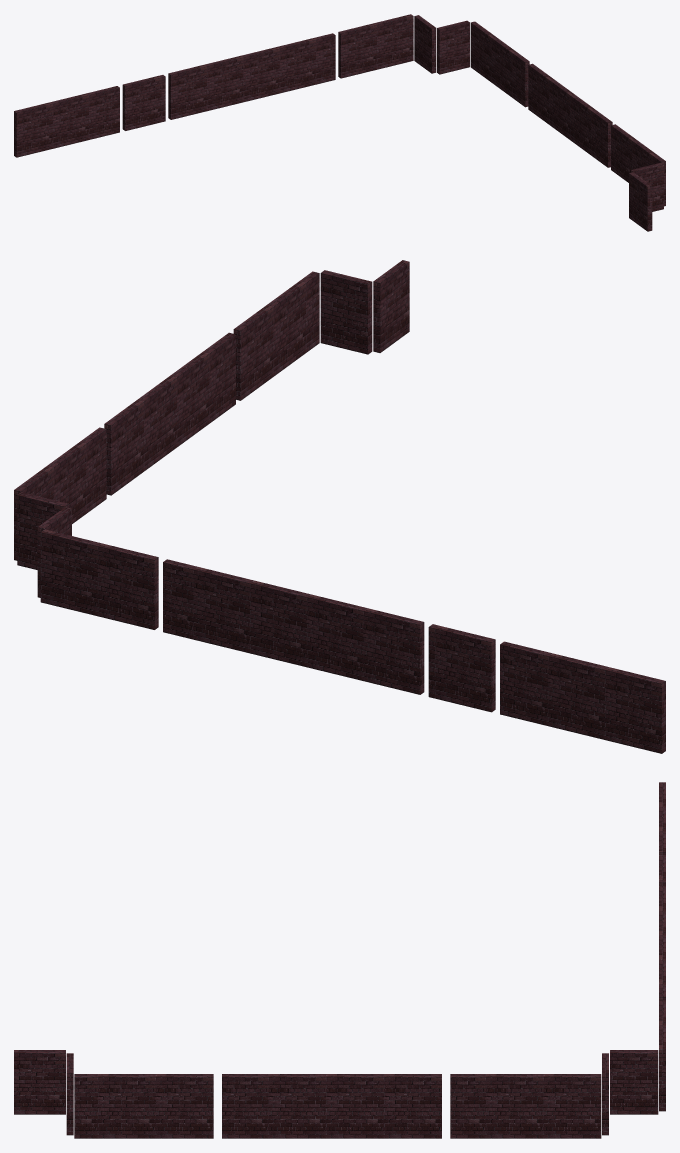
3 views of the same model, one above another, from view 1: azimuth 30°, elevation 25°; view 2: azimuth 150°, elevation 25°; view 3: azimuth 270°, elevation 25° (orthographic). The views are drawn at different scales.
Visible parts, largest first — view 1: Basic Wall Wall-Ext_215Bwk [669415]001, Basic Wall Wall-Ext_215Bwk [668626]001, Basic Wall Wall-Ext_215Bwk [670264]001, Basic Wall Wall-Ext_215Bwk [669515]001, Basic Wall Wall-Ext_215Bwk [670024]001, Basic Wall Wall-Ext_215Bwk [668796]001, Basic Wall Wall-Ext_215Bwk [670547]001, Basic Wall Wall-Ext_215Bwk [669820]001, Basic Wall Wall-Ext_215Bwk [670830]001, Basic Wall Wall-Ext_215Bwk [669698]001, Basic Wall Wall-Ext_215Bwk [670660]001; view 2: Basic Wall Wall-Ext_215Bwk [669415]001, Basic Wall Wall-Ext_215Bwk [668626]001, Basic Wall Wall-Ext_215Bwk [670264]001, Basic Wall Wall-Ext_215Bwk [669515]001, Basic Wall Wall-Ext_215Bwk [670547]001, Basic Wall Wall-Ext_215Bwk [668796]001, Basic Wall Wall-Ext_215Bwk [670024]001, Basic Wall Wall-Ext_215Bwk [670660]001, Basic Wall Wall-Ext_215Bwk [670830]001, Basic Wall Wall-Ext_215Bwk [669820]001, Basic Wall Wall-Ext_215Bwk [669698]001; view 3: Basic Wall Wall-Ext_215Bwk [670264]001, Basic Wall Wall-Ext_215Bwk [670024]001, Basic Wall Wall-Ext_215Bwk [670547]001, Basic Wall Wall-Ext_215Bwk [670830]001, Basic Wall Wall-Ext_215Bwk [669698]001, Basic Wall Wall-Ext_215Bwk [669415]001, Basic Wall Wall-Ext_215Bwk [669515]001, Basic Wall Wall-Ext_215Bwk [670660]001, Basic Wall Wall-Ext_215Bwk [669820]001.
Boxes of the visible parts, x1,y1,x2,y2 form: Basic Wall Wall-Ext_215Bwk [669415]001: [168, 33, 335, 119]; Basic Wall Wall-Ext_215Bwk [668626]001: [14, 86, 119, 157]; Basic Wall Wall-Ext_215Bwk [670264]001: [528, 63, 612, 167]; Basic Wall Wall-Ext_215Bwk [669515]001: [338, 14, 413, 78]; Basic Wall Wall-Ext_215Bwk [670024]001: [470, 21, 529, 107]; Basic Wall Wall-Ext_215Bwk [668796]001: [122, 75, 165, 130]; Basic Wall Wall-Ext_215Bwk [670547]001: [611, 124, 665, 206]; Basic Wall Wall-Ext_215Bwk [669820]001: [437, 20, 469, 74]; Basic Wall Wall-Ext_215Bwk [670830]001: [629, 172, 652, 231]; Basic Wall Wall-Ext_215Bwk [669698]001: [414, 15, 436, 73]; Basic Wall Wall-Ext_215Bwk [670660]001: [631, 162, 663, 211]; Basic Wall Wall-Ext_215Bwk [669415]001: [163, 559, 424, 694]; Basic Wall Wall-Ext_215Bwk [668626]001: [500, 641, 665, 753]; Basic Wall Wall-Ext_215Bwk [670264]001: [104, 332, 235, 495]; Basic Wall Wall-Ext_215Bwk [669515]001: [40, 529, 158, 629]; Basic Wall Wall-Ext_215Bwk [670547]001: [233, 271, 319, 400]; Basic Wall Wall-Ext_215Bwk [668796]001: [428, 624, 495, 712]; Basic Wall Wall-Ext_215Bwk [670024]001: [14, 427, 106, 560]; Basic Wall Wall-Ext_215Bwk [670660]001: [320, 270, 372, 354]; Basic Wall Wall-Ext_215Bwk [670830]001: [373, 260, 409, 352]; Basic Wall Wall-Ext_215Bwk [669820]001: [17, 492, 68, 569]; Basic Wall Wall-Ext_215Bwk [669698]001: [37, 507, 71, 597]; Basic Wall Wall-Ext_215Bwk [670264]001: [222, 1074, 441, 1138]; Basic Wall Wall-Ext_215Bwk [670024]001: [450, 1074, 601, 1138]; Basic Wall Wall-Ext_215Bwk [670547]001: [74, 1074, 213, 1138]; Basic Wall Wall-Ext_215Bwk [670830]001: [14, 1050, 65, 1114]; Basic Wall Wall-Ext_215Bwk [669698]001: [610, 1050, 658, 1114]; Basic Wall Wall-Ext_215Bwk [669415]001: [659, 886, 665, 1000]; Basic Wall Wall-Ext_215Bwk [669515]001: [659, 1000, 665, 1111]; Basic Wall Wall-Ext_215Bwk [670660]001: [66, 1053, 73, 1135]; Basic Wall Wall-Ext_215Bwk [669820]001: [602, 1053, 608, 1135].
Bounding box in the file's own units: 12.27 × 1.2 × 11.47.
1 material, 1 textured.
